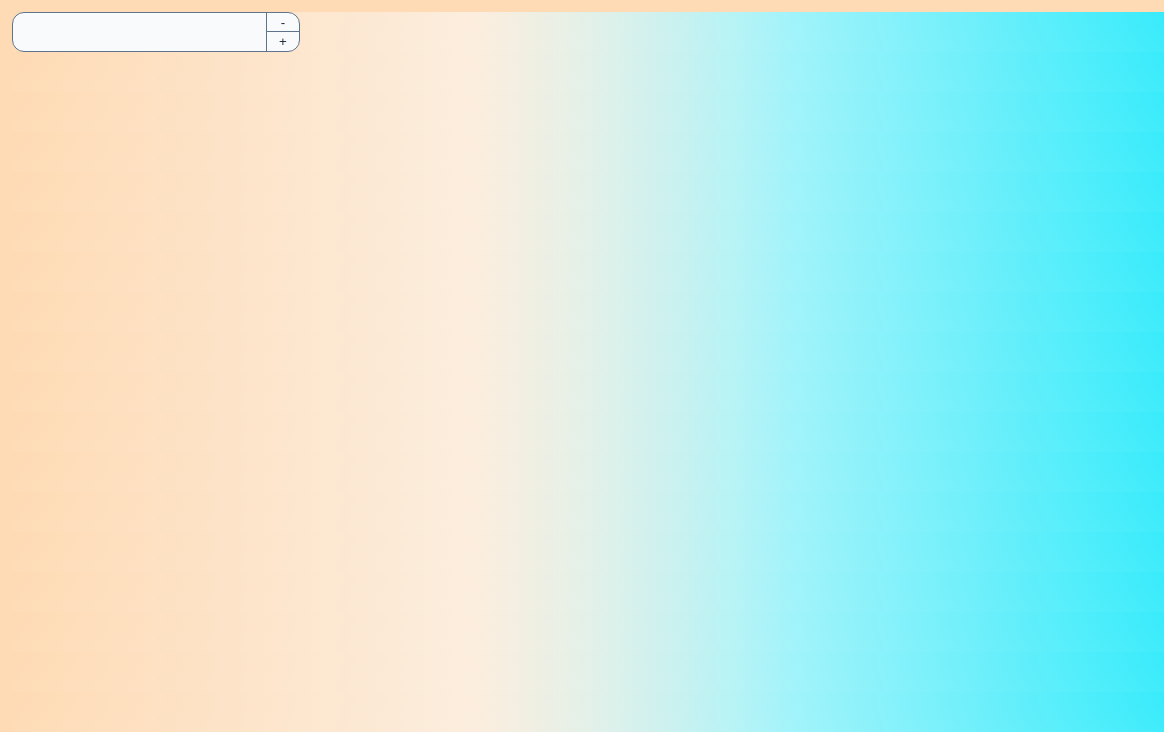
it: NumberField › кнопки шага › из пустого поля: увеличение даёт step, уменьшение 0
Later steps or results of the test are not shown.
What coordinates should you click on to do the following:
click the button named "Increase value"
I would click on:
 (283, 42)
Its box is [267,32,299,51].
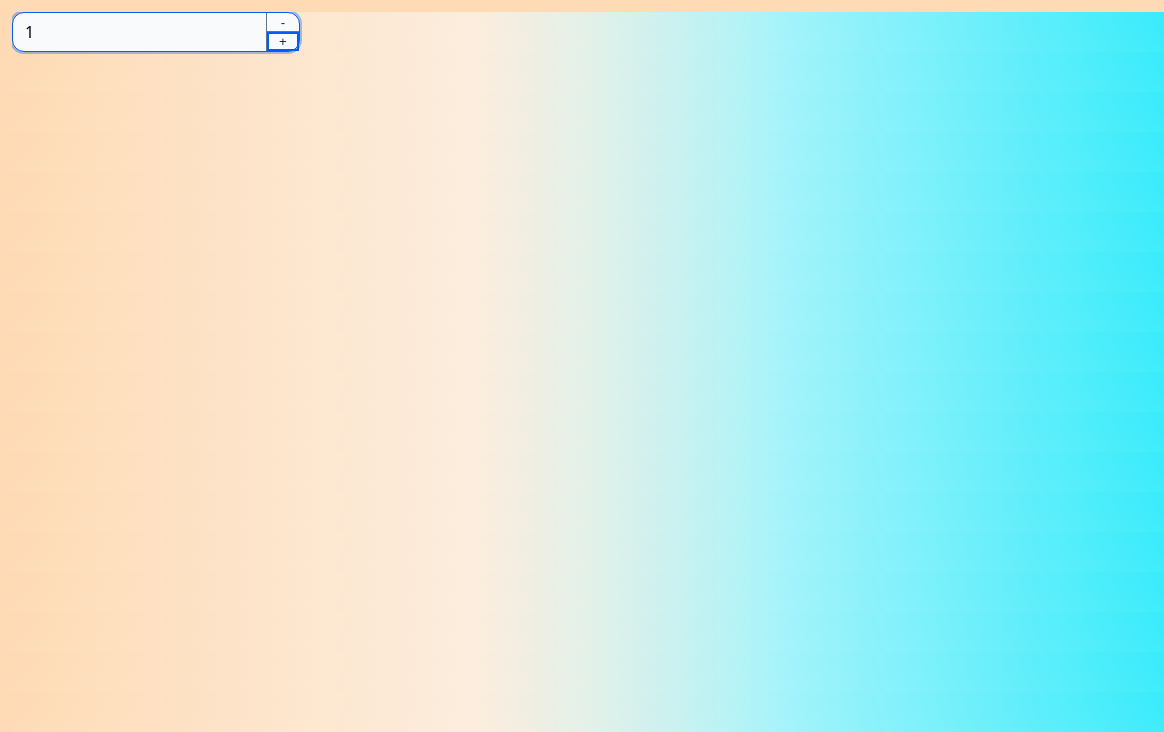
Check: the number field named "Qty" holds "1", box [13,13,266,51]
